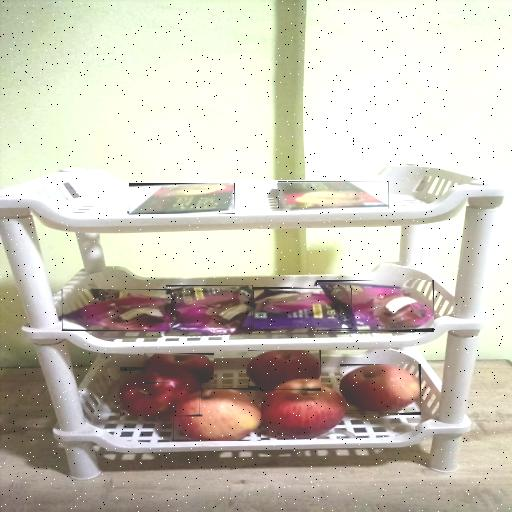Apple: (261, 382, 345, 438), (173, 388, 261, 441), (340, 365, 421, 414), (121, 368, 200, 416), (248, 350, 321, 390), (145, 354, 213, 383)
Choco Fills: (129, 183, 234, 214), (278, 182, 389, 209)
Choco Pie: (317, 282, 434, 331), (62, 289, 171, 331), (166, 285, 252, 334), (246, 290, 351, 329)
